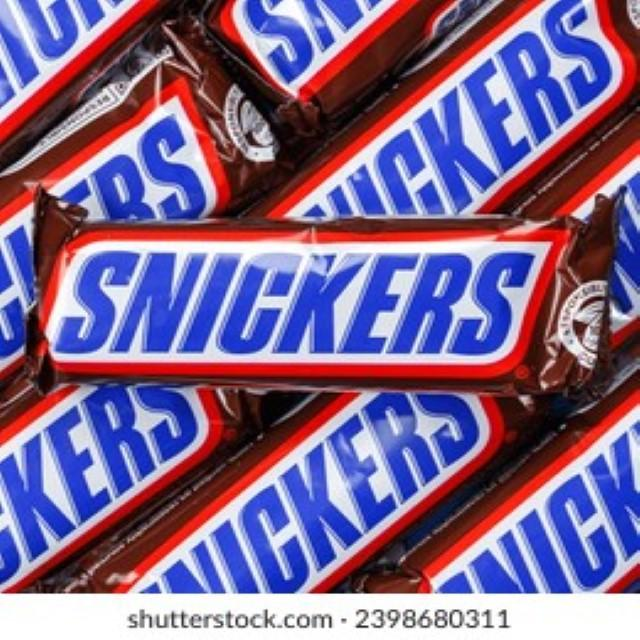snickers_chocolate: (285, 13, 595, 362), (135, 355, 508, 640), (52, 234, 573, 364), (3, 292, 255, 552), (0, 47, 205, 298), (491, 383, 638, 640)
